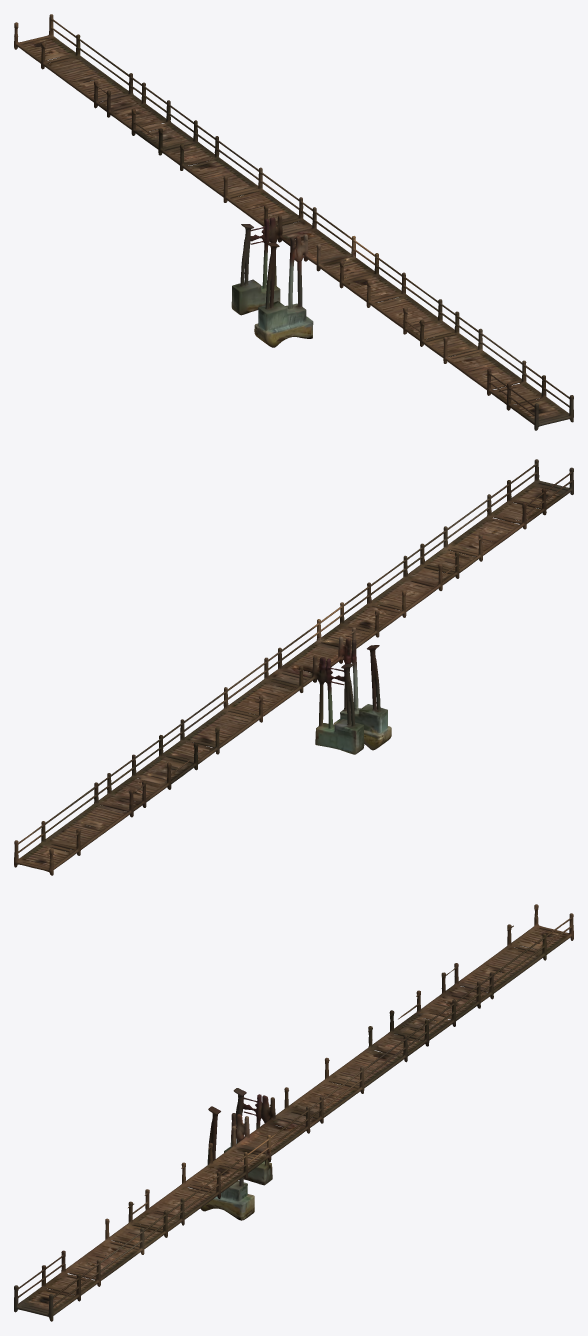
Rendered from dujiangyan.glb.
3 views of the same model, one above another, from view 1: azimuth 30°, elevation 25°; view 2: azimuth 150°, elevation 25°; view 3: azimuth 330°, elevation 25° (orthographic).
Parts seen in each view (by area): view 1: node_0; view 2: node_0; view 3: node_0.
Boxes of the visible parts, x1,y1,x2,y2 form: node_0: (14, 14, 573, 430); node_0: (14, 459, 573, 875); node_0: (14, 904, 573, 1321).
Bounding box in the file's own units: 0.1087 × 0.1255 × 1.19.
Materials: 1 (1 with a texture image).
